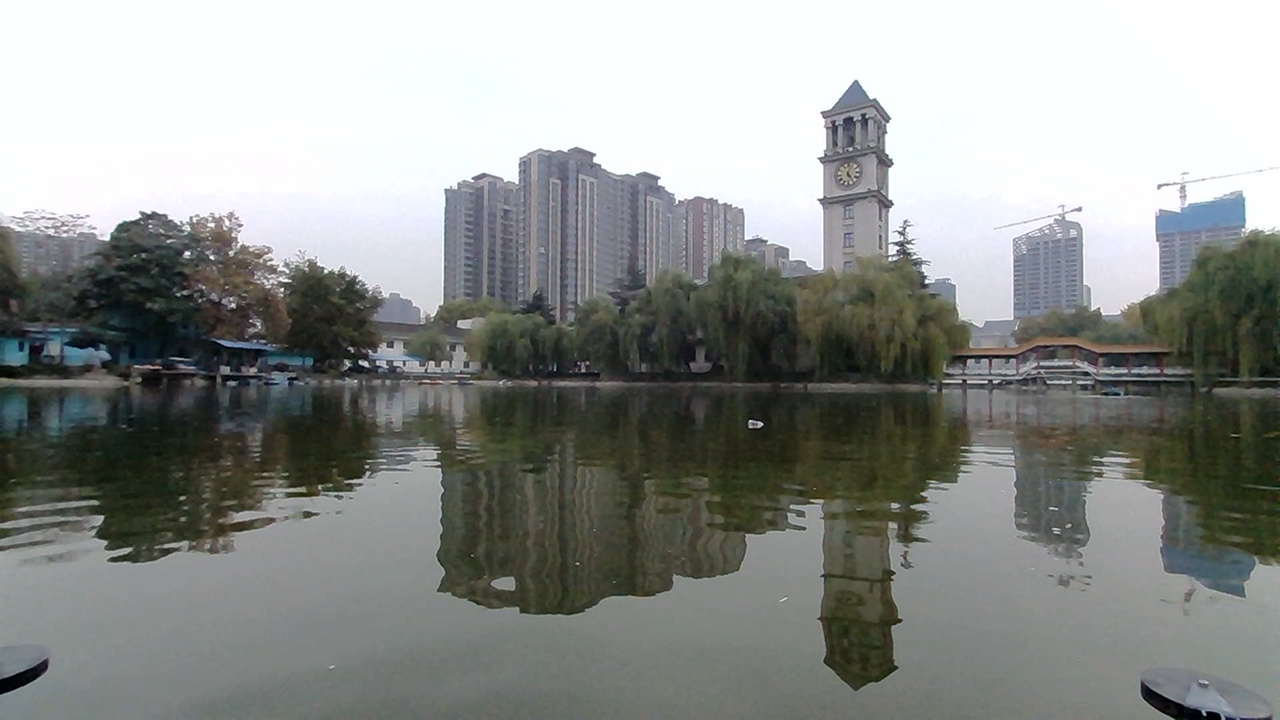bottle: (742, 406, 781, 436)
